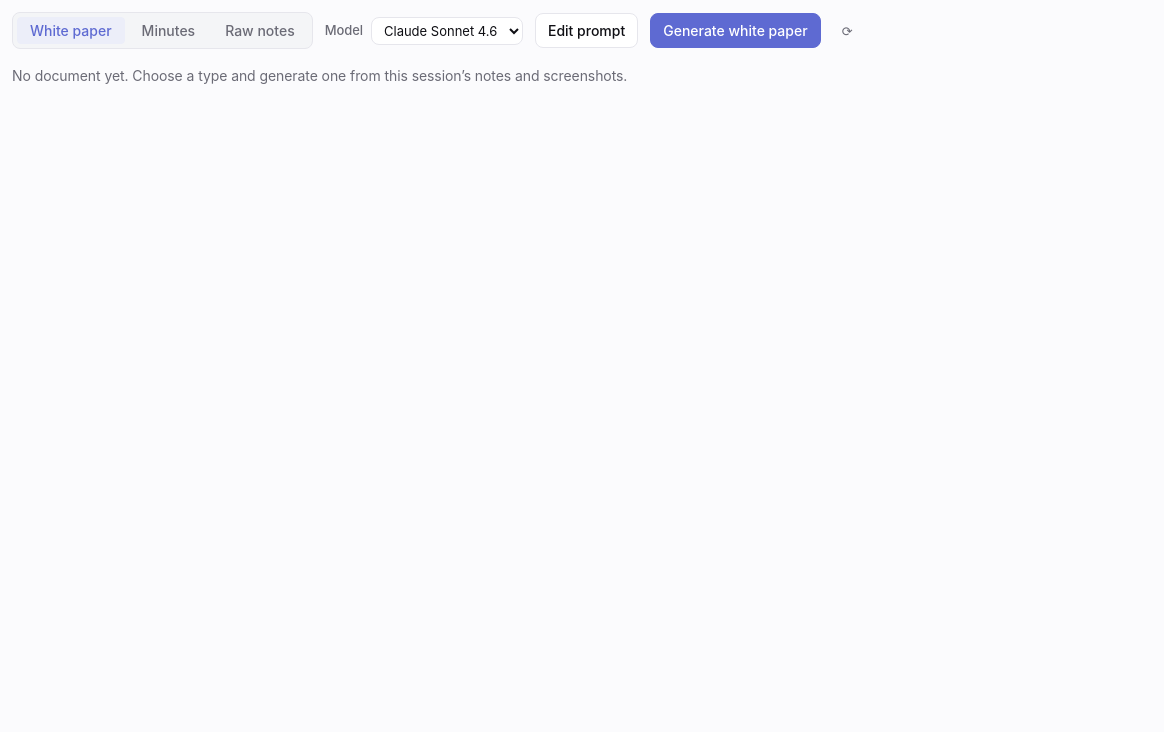
Scenario: single build slot — the busy toast (never a silent no-op) › a refused start raises a toast naming the live run ({session} · {kind}) with the labeled handoff action
Expected: the text "No document yet" is shown, [12,67,627,84]
What coordinates should you click on to do the following:
click the button "Generate white paper"
I would click on:
 (735, 30)
Its box is [650,13,821,48].
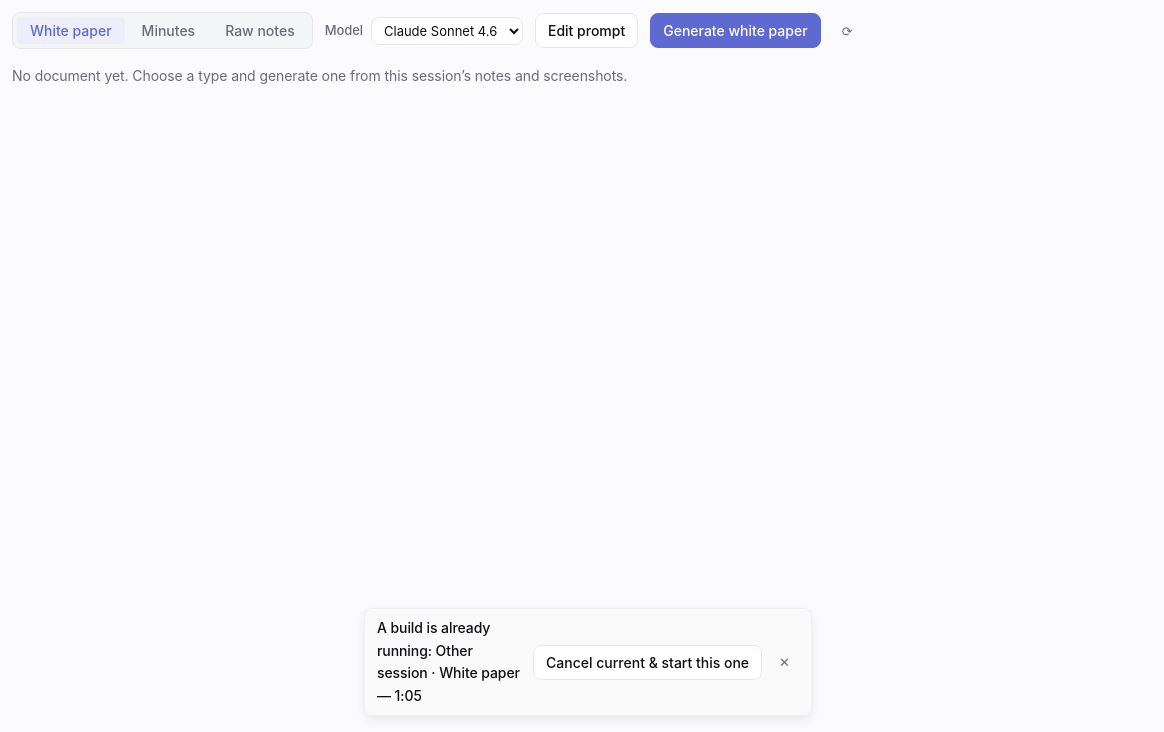
Result: the text "Other session · White paper" is shown at [377,619,520,704]
Result: the button "Cancel current & start this one" is shown at [533,645,762,680]
